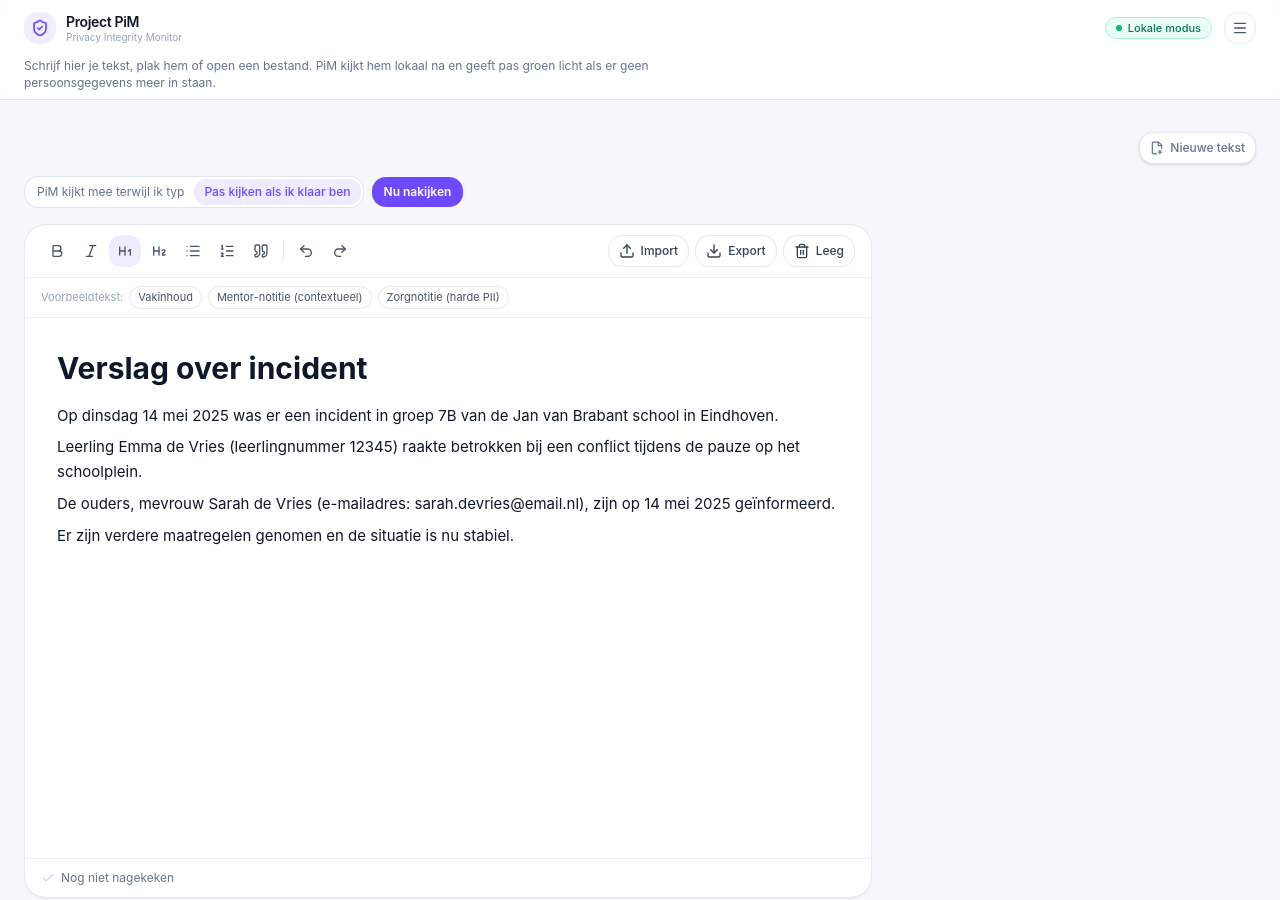
Test case: Gedeeld zijpaneel › Escape sluit het paneel
Click the button with test id "open-menu" at point(1240, 28), box top-left (1224, 12), bottom-right (1256, 44)
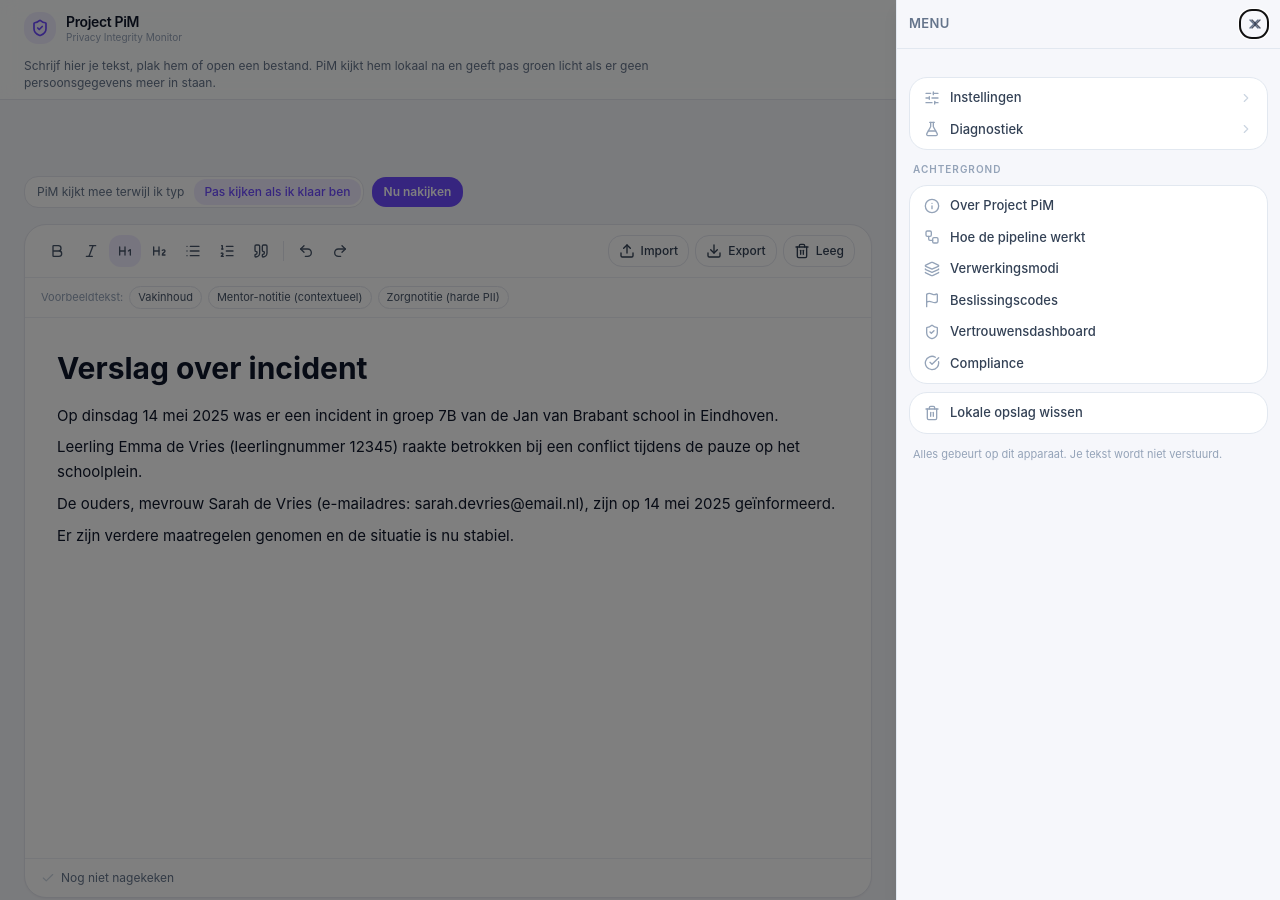
Press Escape
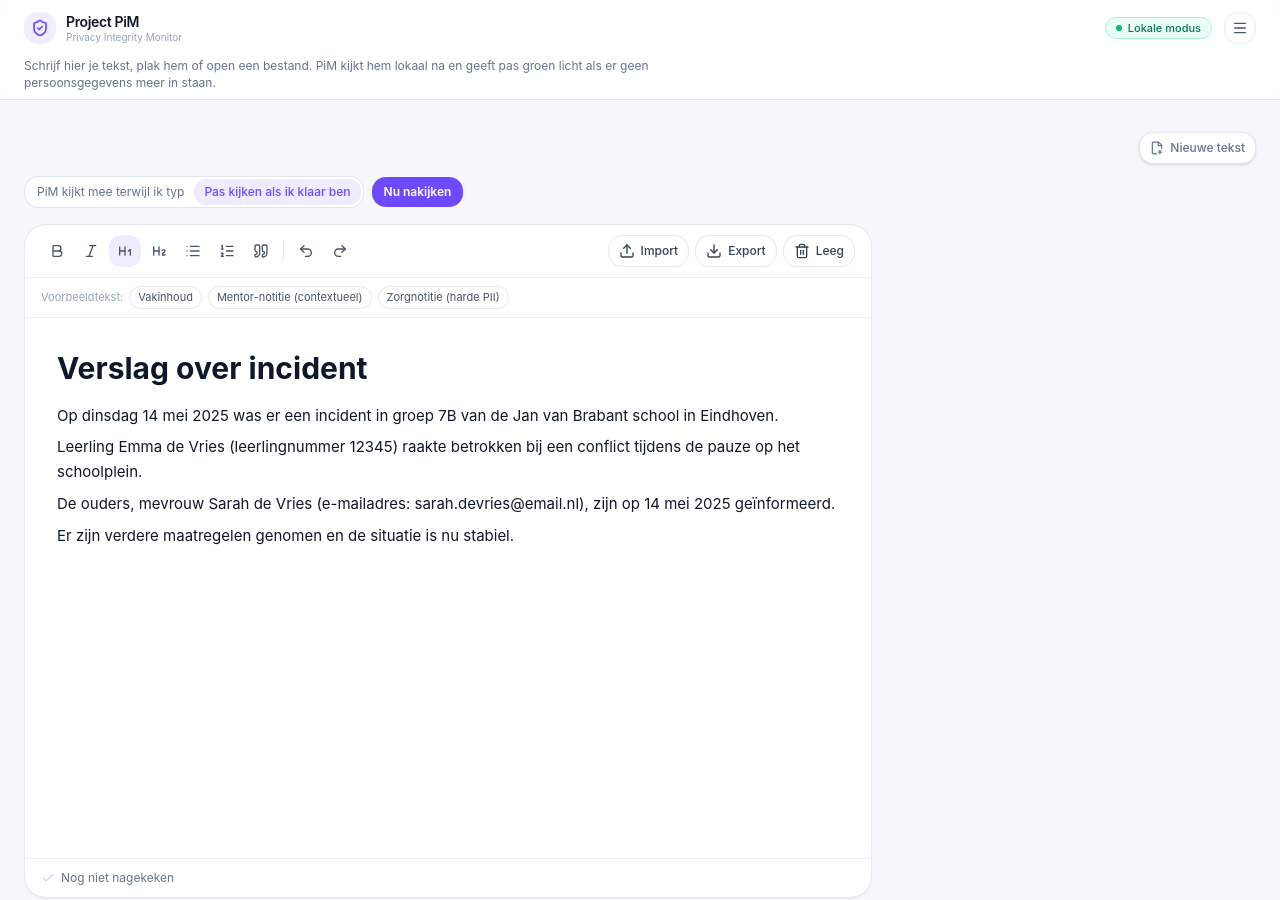
expect no dialogs with test id "side-panel" are shown: met
